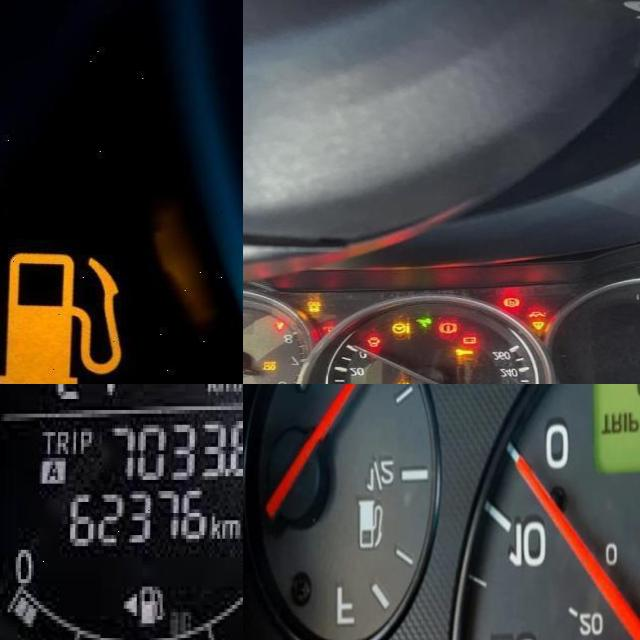Electronic Power Steering: (393, 322, 411, 335)
Seat Belt: (276, 320, 285, 330)
